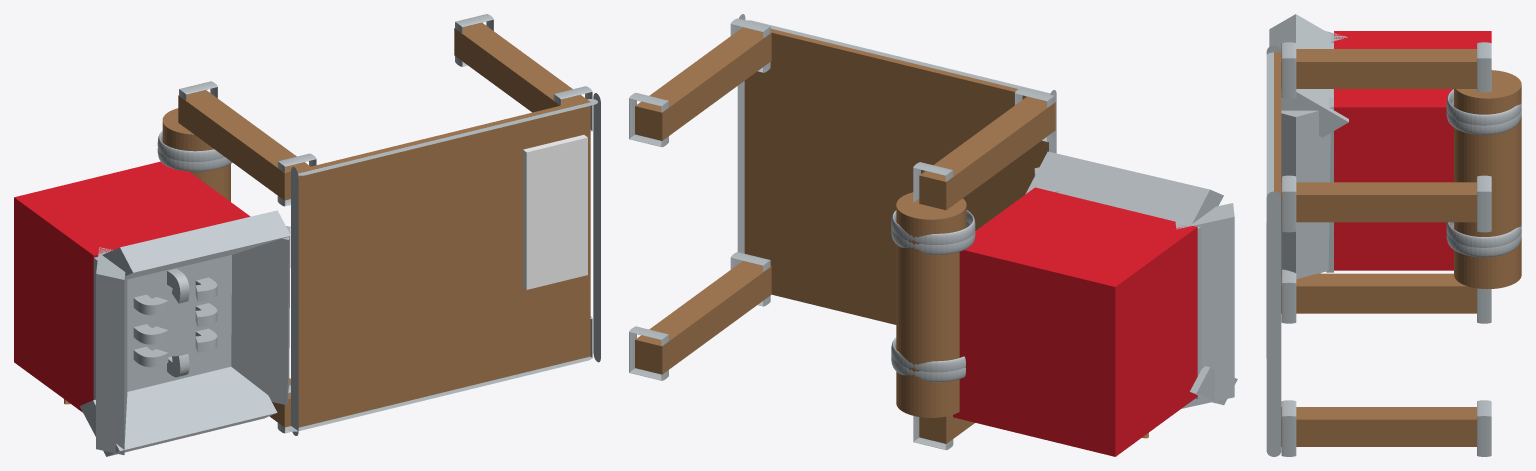
Rendered from craft.obj.
3 renders of one model, left to right at view 1: azimuth 30°, elevation 25°; view 2: azimuth 150°, elevation 25°; view 3: azimuth 270°, elevation 25°, orthographic. The views are drawn at different scales.
Parts seen in each view (by area): view 1: obj_1, obj_23, obj_17, obj_26, obj_29, obj_27, obj_28, obj_30, obj_14, obj_0, obj_6, obj_5 (+9 smaller); view 2: obj_23, obj_1, obj_18, obj_30, obj_8, obj_14, obj_0, obj_28, obj_5, obj_7, obj_11, obj_21 (+7 smaller); view 3: obj_23, obj_18, obj_0, obj_8, obj_14, obj_11, obj_29, obj_5, obj_30, obj_1, obj_7, obj_21 (+12 smaller).
Part boxes in pixels (x1=…): obj_1: x1=297, y1=99, x2=590, y2=427; obj_23: x1=14, y1=161, x2=250, y2=412; obj_17: x1=523, y1=135, x2=587, y2=289; obj_26: x1=93, y1=255, x2=231, y2=399; obj_29: x1=231, y1=226, x2=290, y2=405; obj_27: x1=79, y1=367, x2=277, y2=456; obj_28: x1=96, y1=247, x2=127, y2=454; obj_30: x1=102, y1=210, x2=290, y2=279; obj_14: x1=178, y1=90, x2=310, y2=200; obj_0: x1=454, y1=22, x2=586, y2=112; obj_6: x1=291, y1=166, x2=298, y2=435; obj_5: x1=593, y1=93, x2=600, y2=362; obj_23: x1=953, y1=187, x2=1197, y2=456; obj_1: x1=744, y1=29, x2=1048, y2=324; obj_18: x1=896, y1=192, x2=966, y2=417; obj_30: x1=1025, y1=151, x2=1223, y2=223; obj_8: x1=635, y1=261, x2=771, y2=374; obj_14: x1=919, y1=96, x2=1055, y2=210; obj_0: x1=635, y1=27, x2=771, y2=140; obj_28: x1=1175, y1=203, x2=1234, y2=408; obj_5: x1=737, y1=14, x2=745, y2=263; obj_7: x1=746, y1=20, x2=1050, y2=94; obj_11: x1=919, y1=415, x2=974, y2=443; obj_21: x1=891, y1=210, x2=975, y2=244; obj_23: x1=1334, y1=31, x2=1491, y2=270; obj_18: x1=1454, y1=70, x2=1521, y2=288; obj_0: x1=1281, y1=182, x2=1476, y2=222; obj_8: x1=1281, y1=407, x2=1476, y2=446; obj_14: x1=1281, y1=49, x2=1476, y2=88; obj_11: x1=1281, y1=273, x2=1476, y2=313; obj_29: x1=1281, y1=97, x2=1333, y2=279; obj_5: x1=1266, y1=191, x2=1281, y2=456; obj_30: x1=1269, y1=14, x2=1348, y2=137; obj_1: x1=1274, y1=52, x2=1281, y2=195; obj_7: x1=1266, y1=52, x2=1273, y2=195; obj_21: x1=1446, y1=89, x2=1521, y2=125.
Bounding box in the file's own units: 74.57 × 39 × 34.
